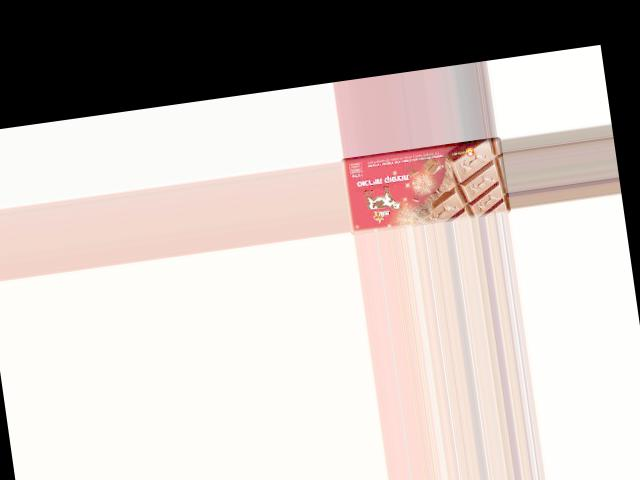chocolate: (340, 136, 510, 234)
